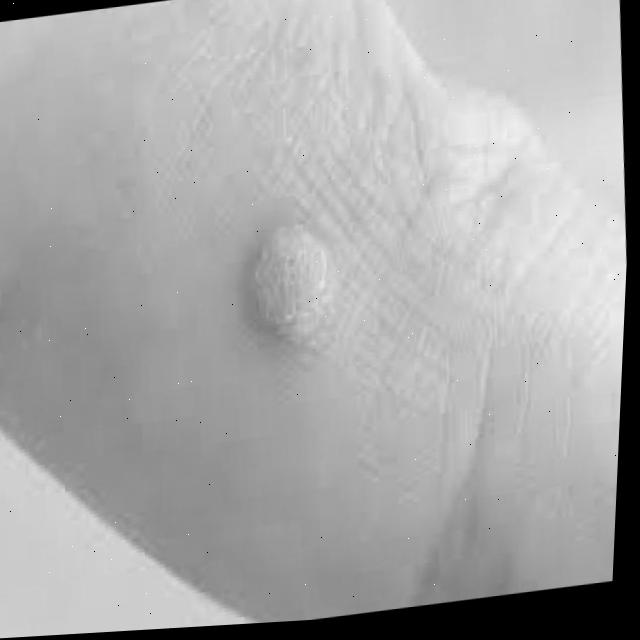Eczema: (206, 210, 369, 379)
